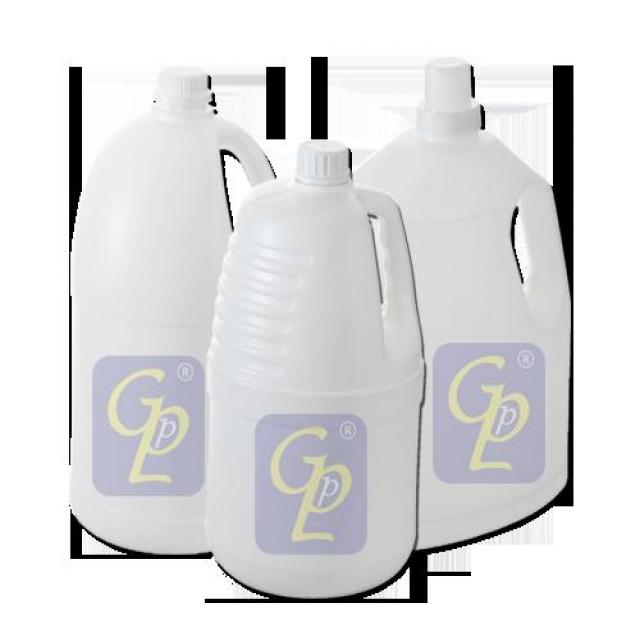plastic_bottle: (355, 71, 561, 544), (84, 89, 258, 560), (237, 149, 424, 584)
